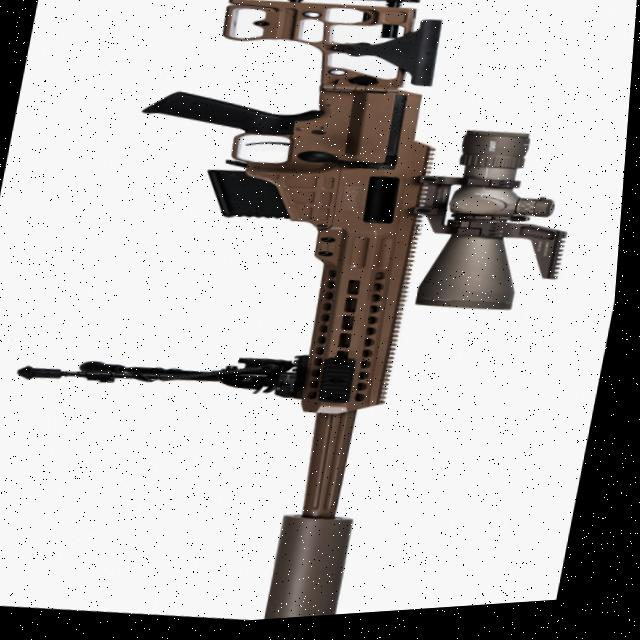firearm: (0, 0, 625, 640)
